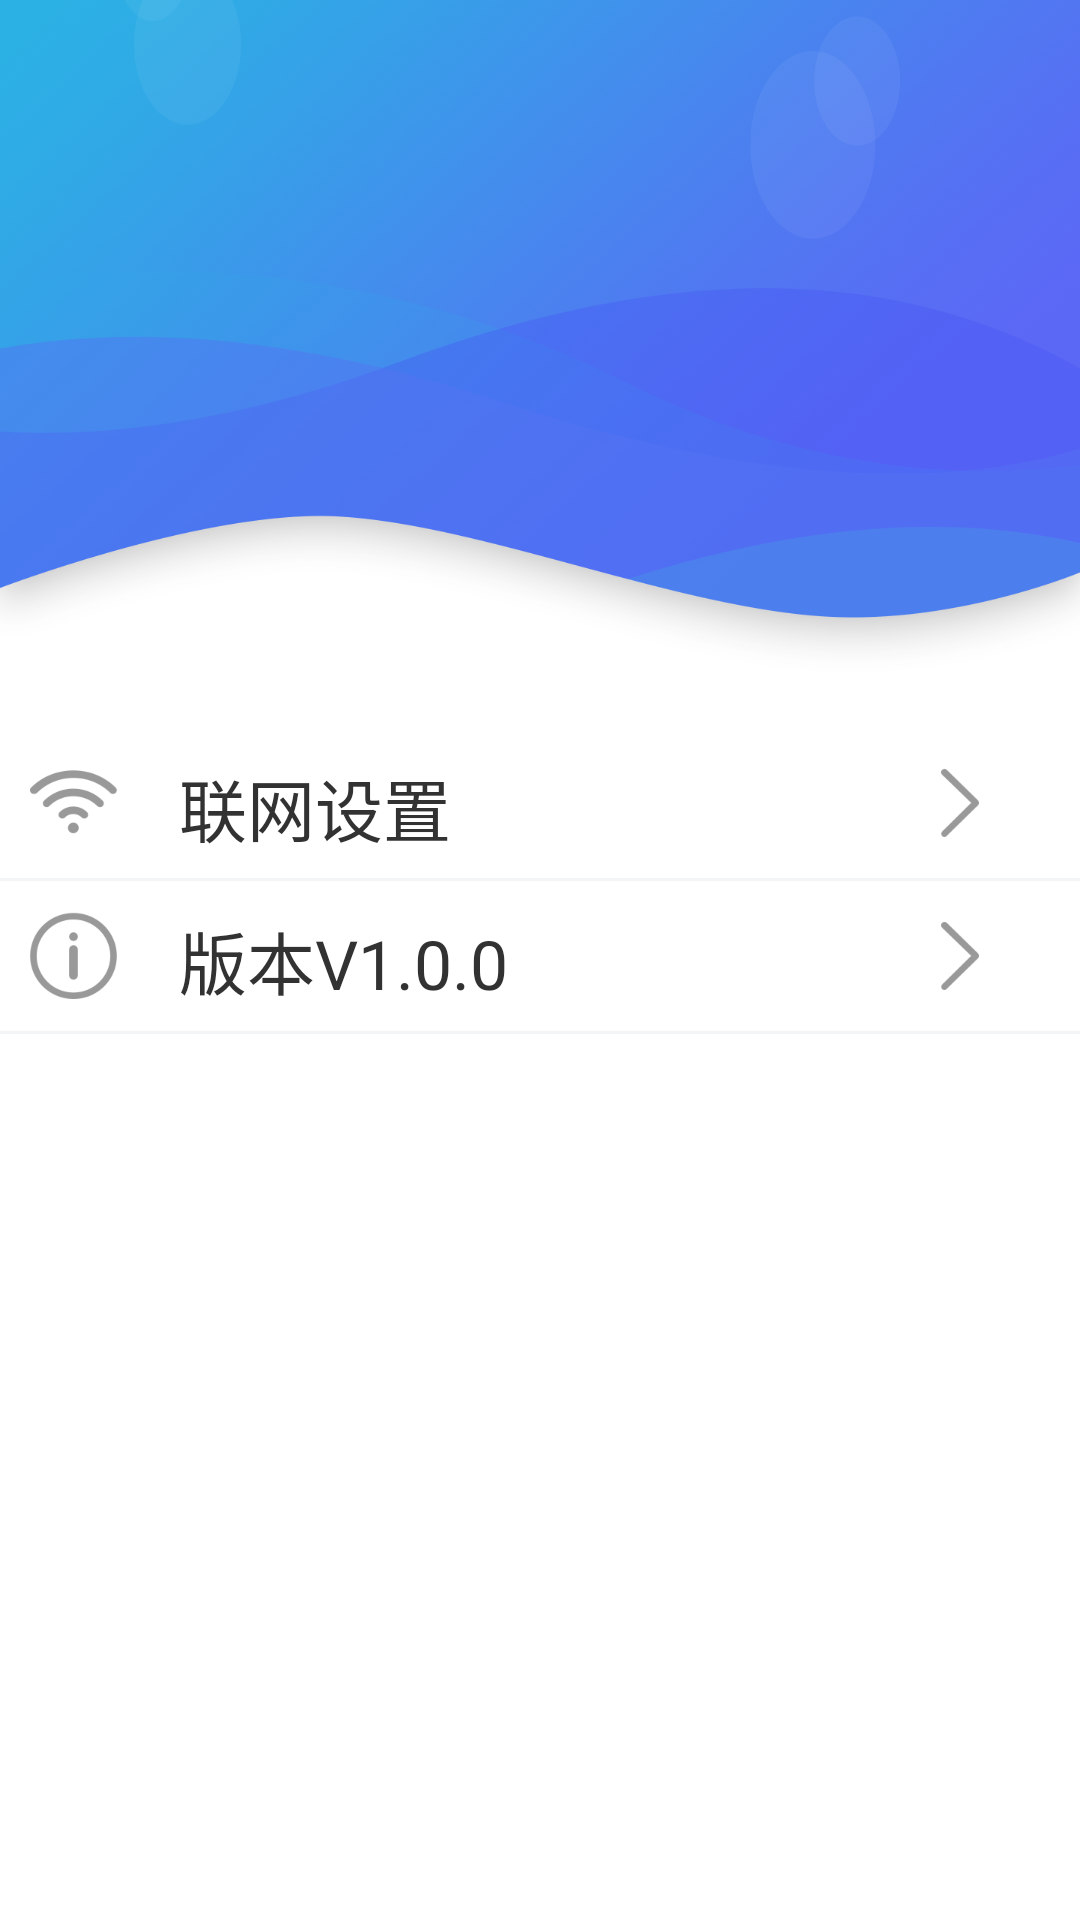

Icon bounding boxes for this 1080×1920 phone screenshot, format (x1,y1,x2,y2):
enter: (941,769,979,837), (941,922,979,990)
networking: (30,770,117,833)
